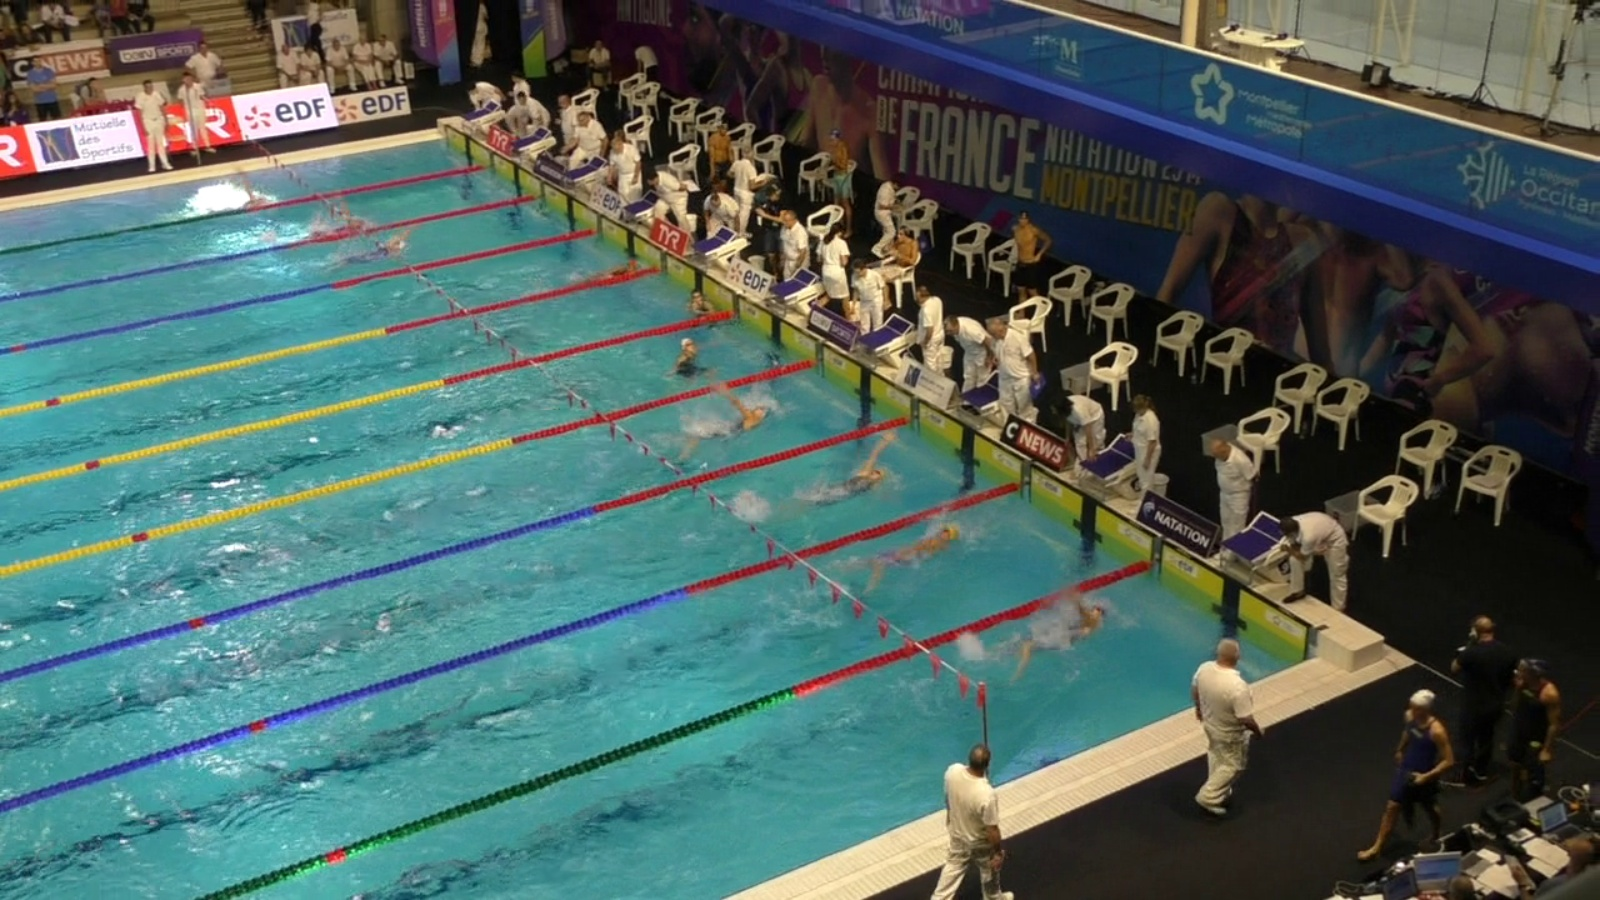swimmerwdd: (986, 592, 1115, 681), (777, 429, 907, 516), (841, 523, 971, 588), (310, 221, 425, 275), (678, 389, 774, 451), (273, 200, 379, 241), (569, 249, 646, 295), (201, 175, 273, 220), (674, 336, 714, 393), (684, 291, 725, 327)
